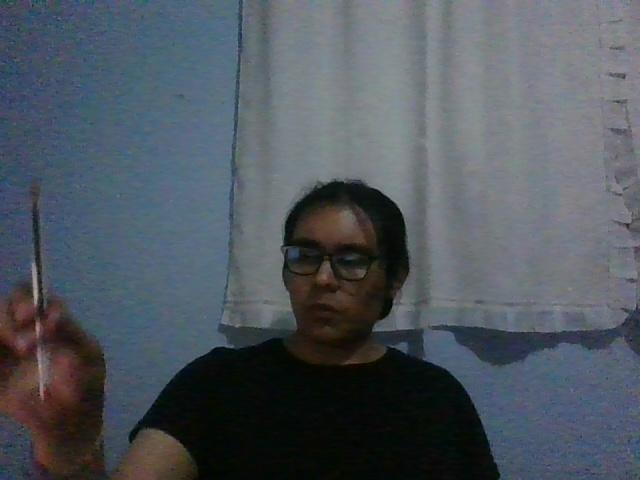pluma: (28, 178, 53, 402)
